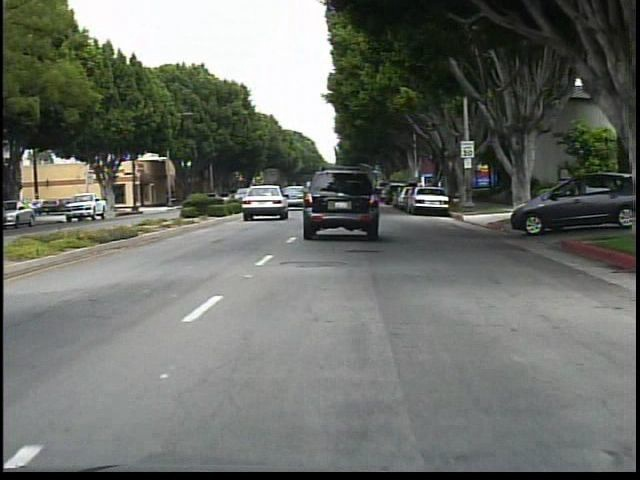person: (507, 169, 528, 213)
